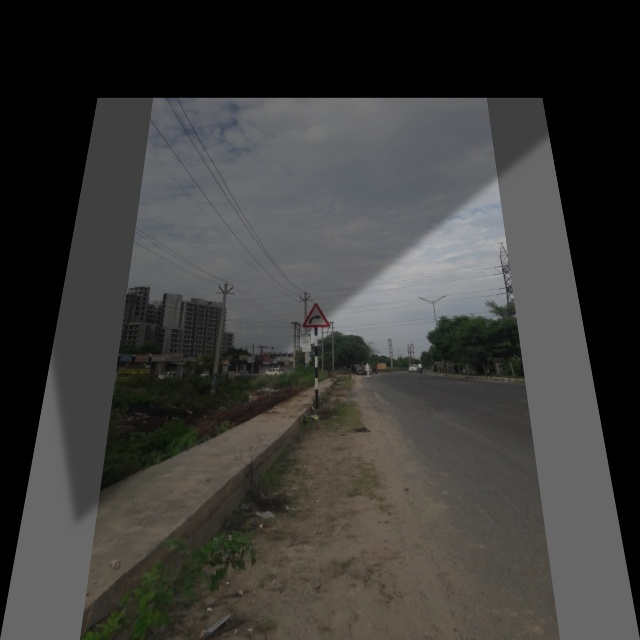Right_Hand_Curve: (301, 302, 330, 330)
